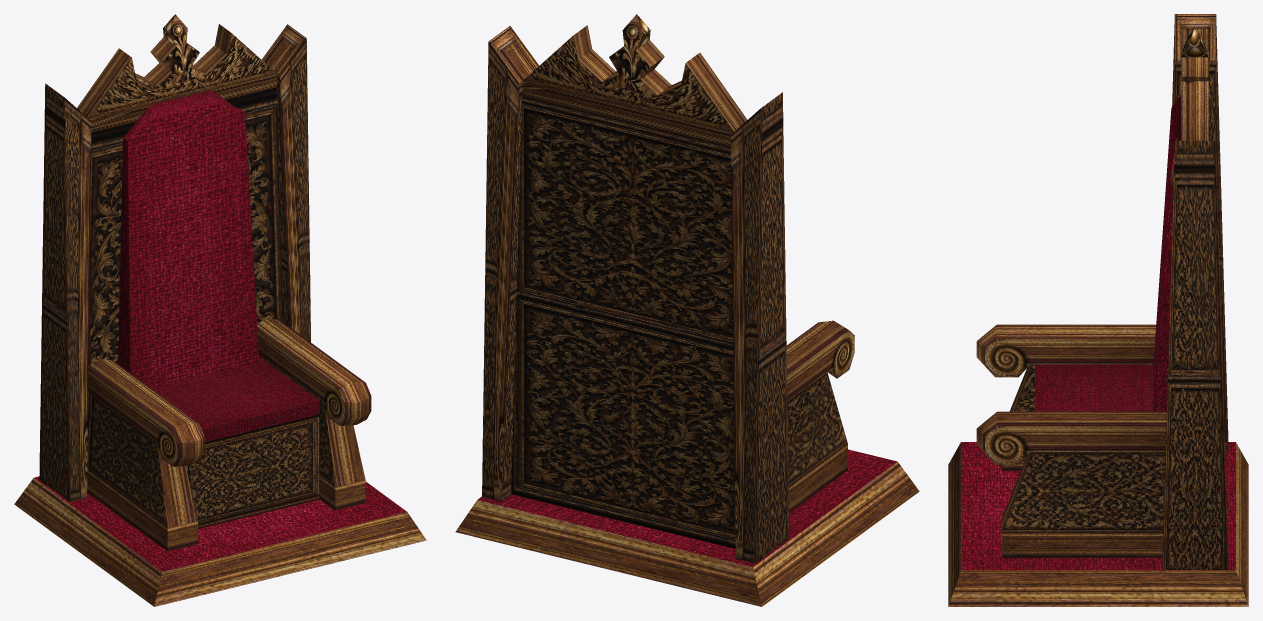
File: mm9_deco_throne.glb
3 renders of one model, left to right at view 1: azimuth 30°, elevation 25°; view 2: azimuth 150°, elevation 25°; view 3: azimuth 270°, elevation 25°, orthographic. The views are drawn at different scales.
Visible parts, largest first — view 1: Throne; view 2: Throne; view 3: Throne.
Boxes of the visible parts, <box> form: Throne: <box>14,14,426,606</box>; Throne: <box>455,14,919,606</box>; Throne: <box>948,14,1248,606</box>.
Bounding box in the file's own units: 1.97 × 3.28 × 1.75.
1 material, 1 textured.
